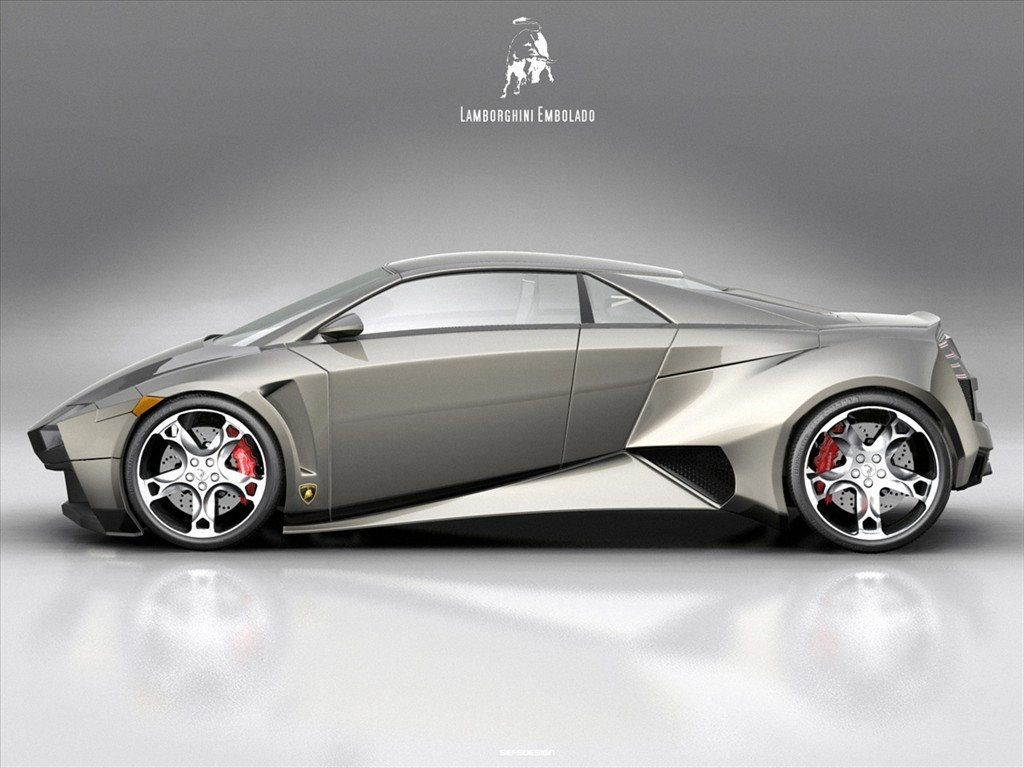car: (20, 243, 1003, 585)
